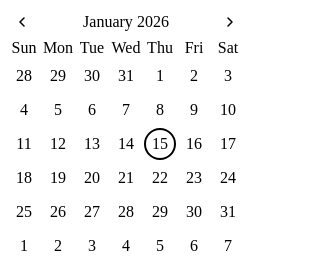
Scenario: Calendar › wraps from January to December of previous year
Click the button named "Previous month": (22, 22) [8,8,36,36]
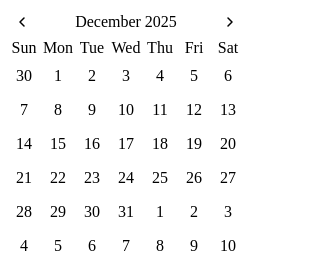
expect the text "December 2025" is shown: met, box [75,13,177,31]
